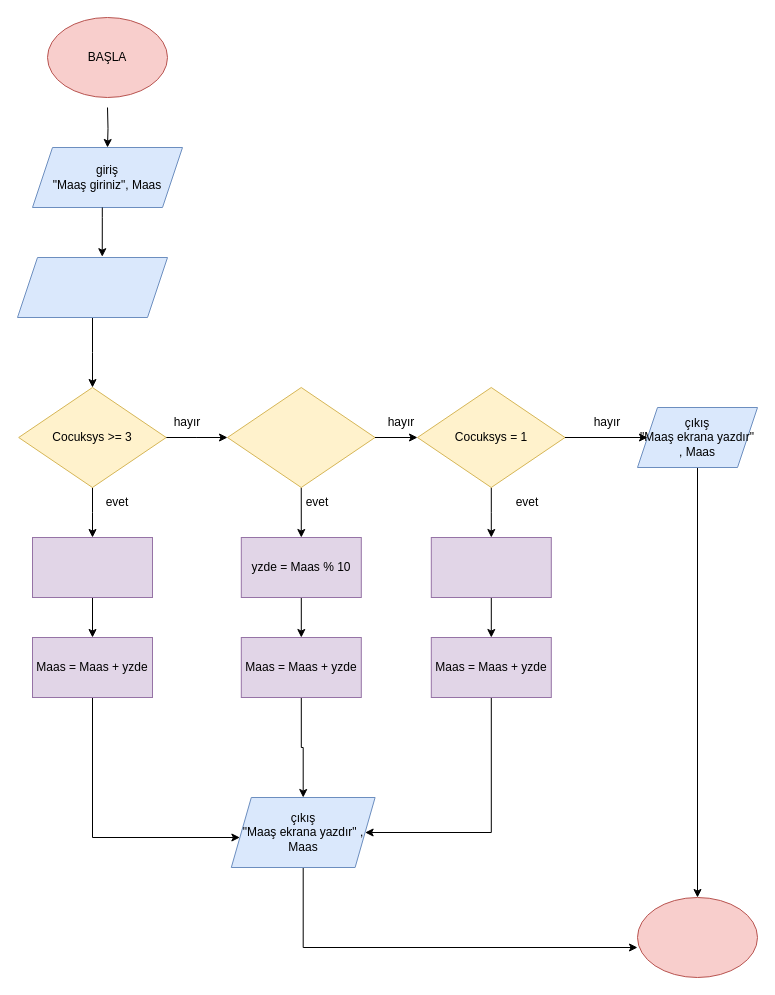
This 775x995 diagram has some shape labels left out. Each missing label, with the centre of its shape:
BİTİR: pixel 697 937
Cocuksys = 2: pixel 300 437
giriş "Çocuk sayısı giriniz", Cocuksys: pixel 92 287
yzde = Maas % 15: pixel 92 567
yzde = Maas % 5: pixel 490 567
